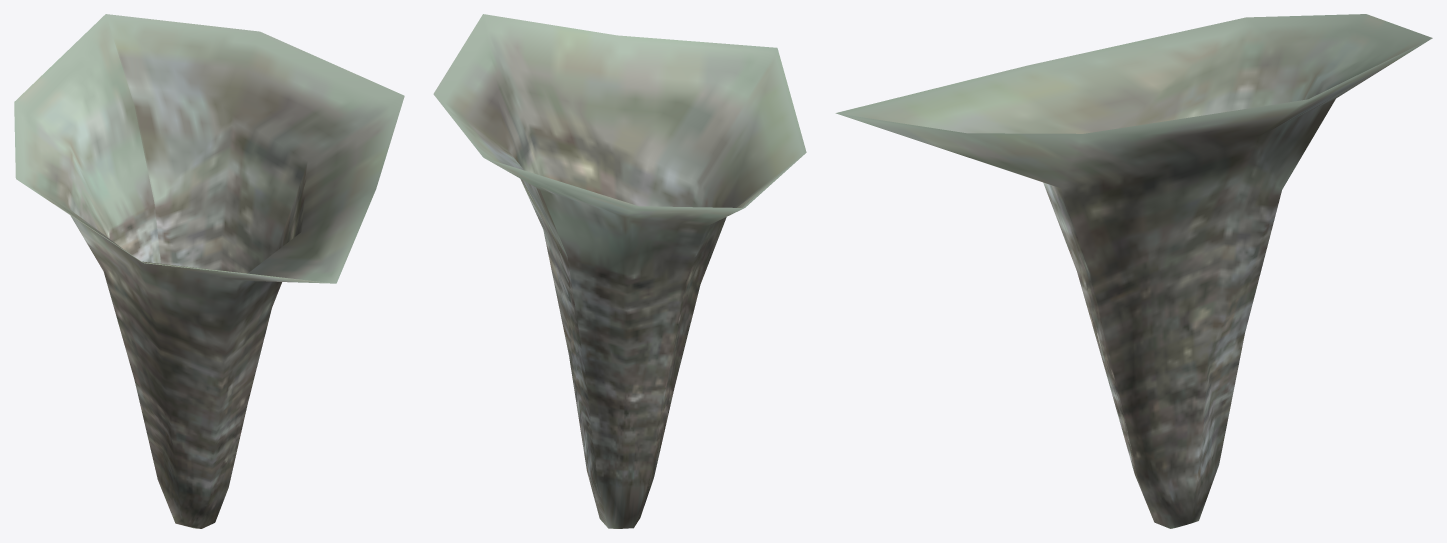
The model's file is TROLLHOLE02_PS-MAINSTALAG90.fbx.
The picture shows the model from 3 angles, left to right: view 1: azimuth 30°, elevation 25°; view 2: azimuth 150°, elevation 25°; view 3: azimuth 270°, elevation 25°; orthographic projection. The views are drawn at different scales.
Parts seen in each view (by area): view 1: TROLLHOLE02_PS-MAINSTALAG90; view 2: TROLLHOLE02_PS-MAINSTALAG90; view 3: TROLLHOLE02_PS-MAINSTALAG90.
Part boxes in pixels (<box>): TROLLHOLE02_PS-MAINSTALAG90: <box>14,14,404,528</box>; TROLLHOLE02_PS-MAINSTALAG90: <box>433,14,806,528</box>; TROLLHOLE02_PS-MAINSTALAG90: <box>835,14,1432,528</box>.
Size of the model in its own units: 16727 by 21474 by 23197.
Materials: 1 (1 with a texture image).
